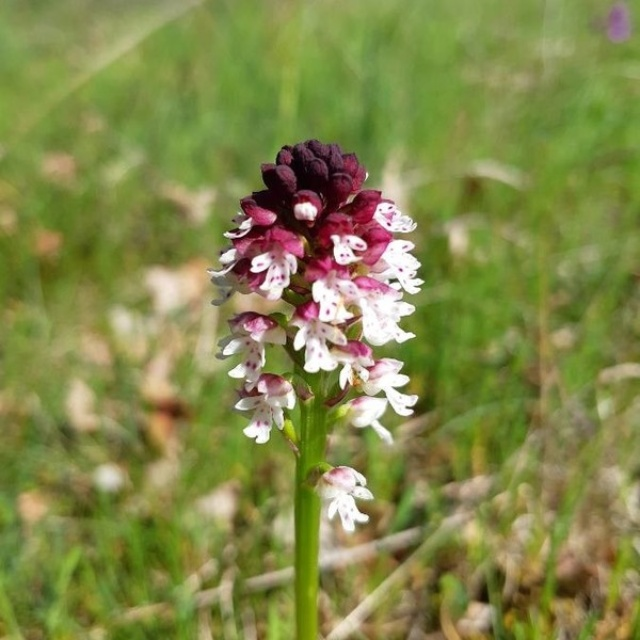obstacle: (206, 121, 449, 619)
